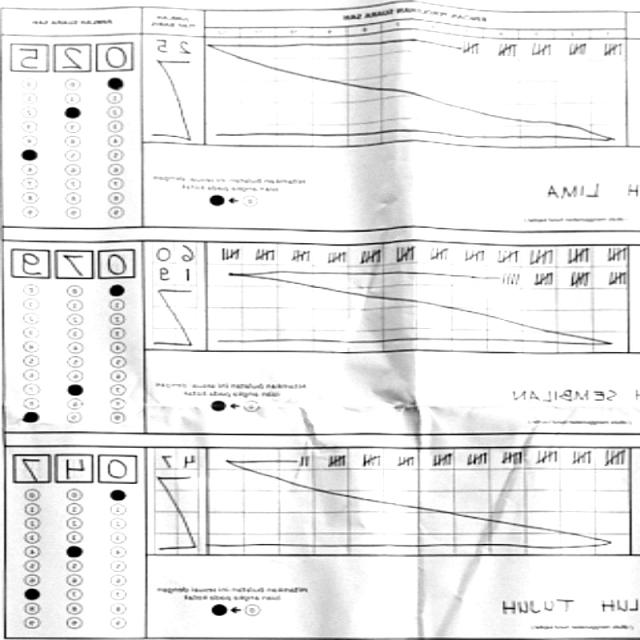Suara: (10, 240, 139, 281), (5, 34, 136, 74), (10, 448, 144, 486)
